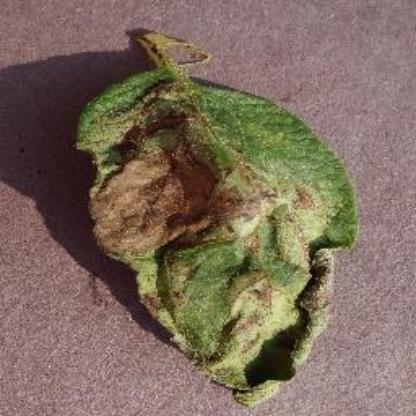Late-Blight: (66, 23, 374, 404)
